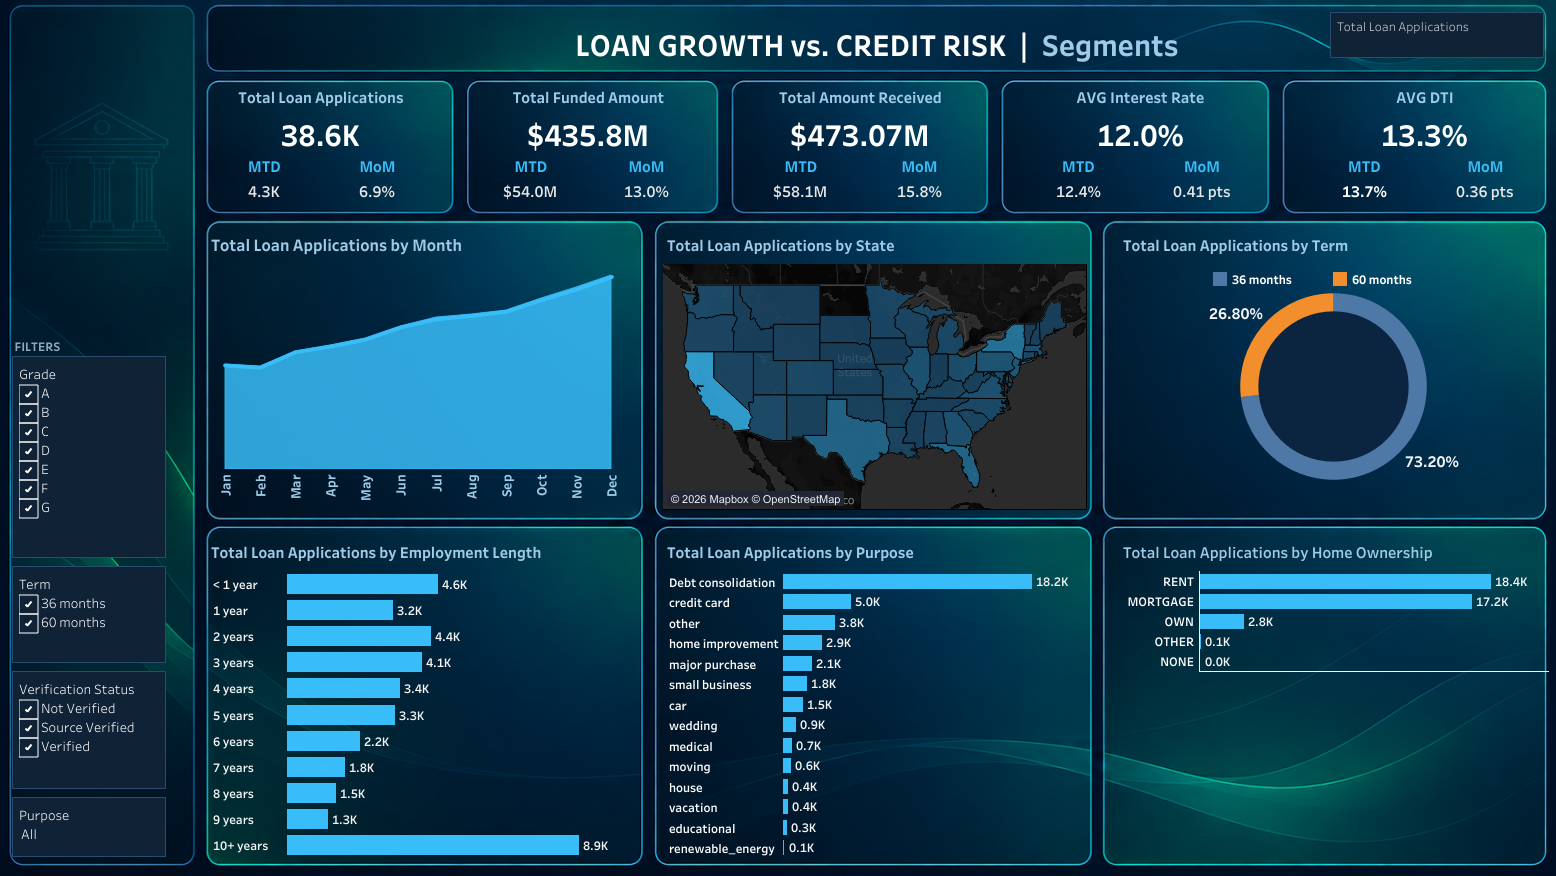

Layout of this report page (visuals, bound fields, positions):
{"tool":"tableau","page":{"name":"Segments","canvas":[1600,900],"ordinal":2},"visuals":[{"type":"image","param":"Image/13377051d16431ab2ba50f1e5045275cefa3461d3fb2bfe730aa2cf2447f7119.png","box":[8,8,1584,884]},{"type":"text","box":[218.3,24,1361.4,64]},{"type":"parameter","param":"[Parameters].[Parameter 5425453534765098]","box":[1352,24,214,46]},{"type":"worksheet","title":"Total Loan Applications","mark":"Automatic","box":[229.7,92.4,226.4,72.9]},{"type":"worksheet","title":"Total Funded Amount","mark":"Automatic","box":[494.9,92.4,231.2,72.9]},{"type":"worksheet","title":"Total Amount Received","mark":"Automatic","box":[764,92.4,236.8,72.9]},{"type":"worksheet","title":"AVG Interest Rate","mark":"Automatic","box":[1038.7,92.4,247.3,72.9]},{"type":"worksheet","title":"AVG DTI","mark":"Automatic","box":[1325.8,92.4,242.5,72.9]},{"type":"text","box":[229.7,165.3,113.2,23.4]},{"type":"text","box":[342.9,165.3,113.2,23.4]},{"type":"text","box":[494.9,165.3,115.6,23.4]},{"type":"text","box":[610.5,165.3,115.6,23.4]},{"type":"text","box":[764,165.3,118.4,23.4]},{"type":"text","box":[882.4,165.3,118.4,23.4]},{"type":"text","box":[1038.7,165.3,123.6,23.4]},{"type":"text","box":[1162.4,165.3,123.6,23.4]},{"type":"text","box":[1325.8,165.3,121.3,23.4]},{"type":"text","box":[1447.1,165.3,121.3,23.4]},{"type":"worksheet","title":"MTD Total Loan Applications","mark":"Automatic","box":[229.7,187.8,113.2,30.6]},{"type":"worksheet","title":"MoM Loan Applications","mark":"Automatic","box":[342.9,187.8,113.2,30.6]},{"type":"worksheet","title":"MTD Total Funded Amount","mark":"Automatic","box":[494.9,187.8,115.6,30.6]},{"type":"worksheet","title":"MoM Total Funded Amount","mark":"Automatic","box":[610.5,187.8,115.6,30.6]},{"type":"worksheet","title":"MTD Total Amount Received","mark":"Automatic","box":[764,187.8,118.4,30.6]},{"type":"worksheet","title":"MoM Total Amount Received","mark":"Automatic","box":[882.4,187.8,118.4,30.6]},{"type":"worksheet","title":"MTD AVG INT Rate","mark":"Automatic","box":[1038.7,187.8,123.6,30.6]},{"type":"worksheet","title":"MoM AVG Int Rate","mark":"Automatic","box":[1162.4,187.8,123.6,30.6]},{"type":"worksheet","title":"MTD AVG DTI","mark":"Automatic","box":[1325.8,187.8,121.3,30.6]},{"type":"worksheet","title":"MoM AVG DTI","mark":"Automatic","box":[1447.1,187.8,121.3,30.6]},{"type":"worksheet","title":"Month","mark":"Area","rows":["Calculation_5425453535137835","Calculation_5425453535137835"],"cols":["Calculation_9100000000000022"],"box":[228.7,239.1,422.5,281.8]},{"type":"worksheet","title":"State","mark":"Automatic","box":[685.4,240,422.5,280.9]},{"type":"worksheet","title":"Term","mark":"Pie","rows":["Calculation_5425453546827822","Calculation_5425453546852400"],"box":[1141.1,240,429.2,280.9]},{"type":"legend","title":"Term","param":"[federated.13vzdsn0al6ioo1g1fbnn06qu7pc].[none:term:nk]","box":[1232,281,244,22]},{"type":"text","box":[34.2,350,154,16]},{"type":"filter","title":"Total Loan Applications","param":"[federated.13vzdsn0al6ioo1g1fbnn06qu7pc].[none:grade:nk]","box":[34.2,368,154,202]},{"type":"worksheet","title":"Employment Length","mark":"Automatic","rows":["emp_length"],"cols":["Calculation_5425453535137835"],"box":[228.7,547.2,422.5,323.2]},{"type":"worksheet","title":"Purpose","mark":"Automatic","rows":["purpose"],"cols":["Calculation_5425453535137835"],"box":[685.4,547.2,422.5,323.2]},{"type":"worksheet","title":"Home Ownership","mark":"Bar","rows":["home_ownership"],"cols":["Calculation_5425453535137835"],"box":[1141.1,547.2,429.2,323.2]},{"type":"filter","title":"Total Loan Applications","param":"[federated.13vzdsn0al6ioo1g1fbnn06qu7pc].[none:term:nk]","box":[34.2,578,154,97]},{"type":"filter","title":"Total Loan Applications","param":"[federated.13vzdsn0al6ioo1g1fbnn06qu7pc].[none:verification_status:nk]","box":[34.2,683,154,118]},{"type":"filter","title":"Total Loan Applications","param":"[federated.13vzdsn0al6ioo1g1fbnn06qu7pc].[none:purpose:nk]","box":[34.2,809,154,60]}]}

Visuals, with their boxes in screenshot pixels (x1, y1, x2, y2), scaled from the page's 1600x900 canvas onto the 1556x876 screenshot:
image: <bbox>8, 8, 1548, 868</bbox>
text: <bbox>212, 23, 1536, 86</bbox>
parameter: <bbox>1315, 23, 1523, 68</bbox>
"Total Loan Applications" worksheet: <bbox>223, 90, 444, 161</bbox>
"Total Funded Amount" worksheet: <bbox>481, 90, 706, 161</bbox>
"Total Amount Received" worksheet: <bbox>743, 90, 973, 161</bbox>
"AVG Interest Rate" worksheet: <bbox>1010, 90, 1251, 161</bbox>
"AVG DTI" worksheet: <bbox>1289, 90, 1525, 161</bbox>
text: <bbox>223, 161, 333, 184</bbox>
text: <bbox>333, 161, 444, 184</bbox>
text: <bbox>481, 161, 594, 184</bbox>
text: <bbox>594, 161, 706, 184</bbox>
text: <bbox>743, 161, 858, 184</bbox>
text: <bbox>858, 161, 973, 184</bbox>
text: <bbox>1010, 161, 1130, 184</bbox>
text: <bbox>1130, 161, 1251, 184</bbox>
text: <bbox>1289, 161, 1407, 184</bbox>
text: <bbox>1407, 161, 1525, 184</bbox>
"MTD Total Loan Applications" worksheet: <bbox>223, 183, 333, 213</bbox>
"MoM Loan Applications" worksheet: <bbox>333, 183, 444, 213</bbox>
"MTD Total Funded Amount" worksheet: <bbox>481, 183, 594, 213</bbox>
"MoM Total Funded Amount" worksheet: <bbox>594, 183, 706, 213</bbox>
"MTD Total Amount Received" worksheet: <bbox>743, 183, 858, 213</bbox>
"MoM Total Amount Received" worksheet: <bbox>858, 183, 973, 213</bbox>
"MTD AVG INT Rate" worksheet: <bbox>1010, 183, 1130, 213</bbox>
"MoM AVG Int Rate" worksheet: <bbox>1130, 183, 1251, 213</bbox>
"MTD AVG DTI" worksheet: <bbox>1289, 183, 1407, 213</bbox>
"MoM AVG DTI" worksheet: <bbox>1407, 183, 1525, 213</bbox>
"Month" worksheet (Area marks): <bbox>222, 233, 633, 507</bbox>
"State" worksheet: <bbox>667, 234, 1077, 507</bbox>
"Term" worksheet (Pie marks): <bbox>1110, 234, 1527, 507</bbox>
"Term" legend: <bbox>1198, 274, 1435, 295</bbox>
text: <bbox>33, 341, 183, 356</bbox>
"Total Loan Applications" filter: <bbox>33, 358, 183, 555</bbox>
"Employment Length" worksheet: <bbox>222, 533, 633, 847</bbox>
"Purpose" worksheet: <bbox>667, 533, 1077, 847</bbox>
"Home Ownership" worksheet (Bar marks): <bbox>1110, 533, 1527, 847</bbox>
"Total Loan Applications" filter: <bbox>33, 563, 183, 657</bbox>
"Total Loan Applications" filter: <bbox>33, 665, 183, 780</bbox>
"Total Loan Applications" filter: <bbox>33, 787, 183, 846</bbox>
